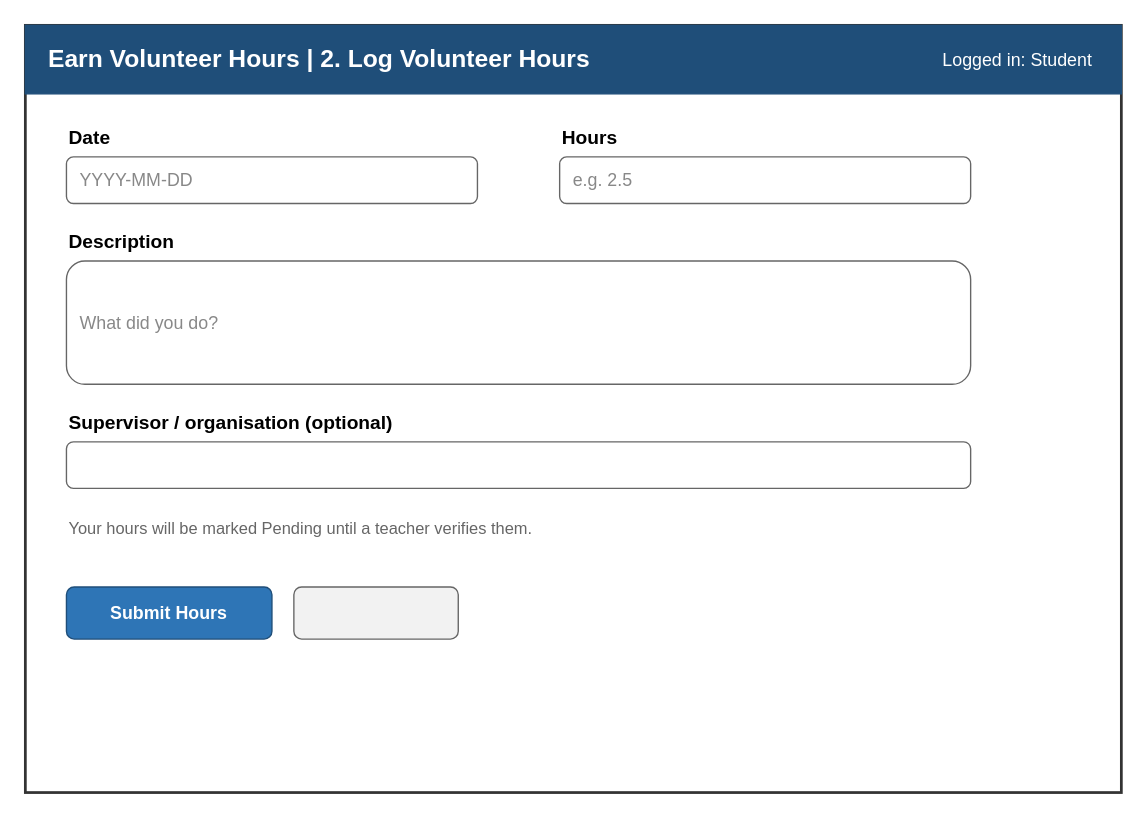
This 1145x817 diagram has some shape labels left out. The shapes that lost their labels are listed below. From the top down, each one's box as (x1, y1, x2, y2) in pixels, then its label:
(65, 440, 971, 488): e.g. Community Food Bank
(292, 586, 458, 639): Cancel
